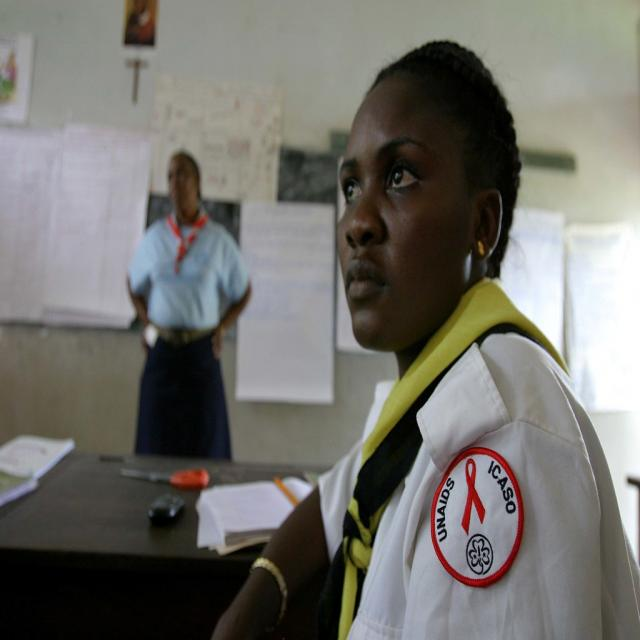desk: (45, 415, 321, 630)
mouse: (148, 493, 186, 525)
person: (195, 40, 640, 639), (126, 150, 253, 458)
